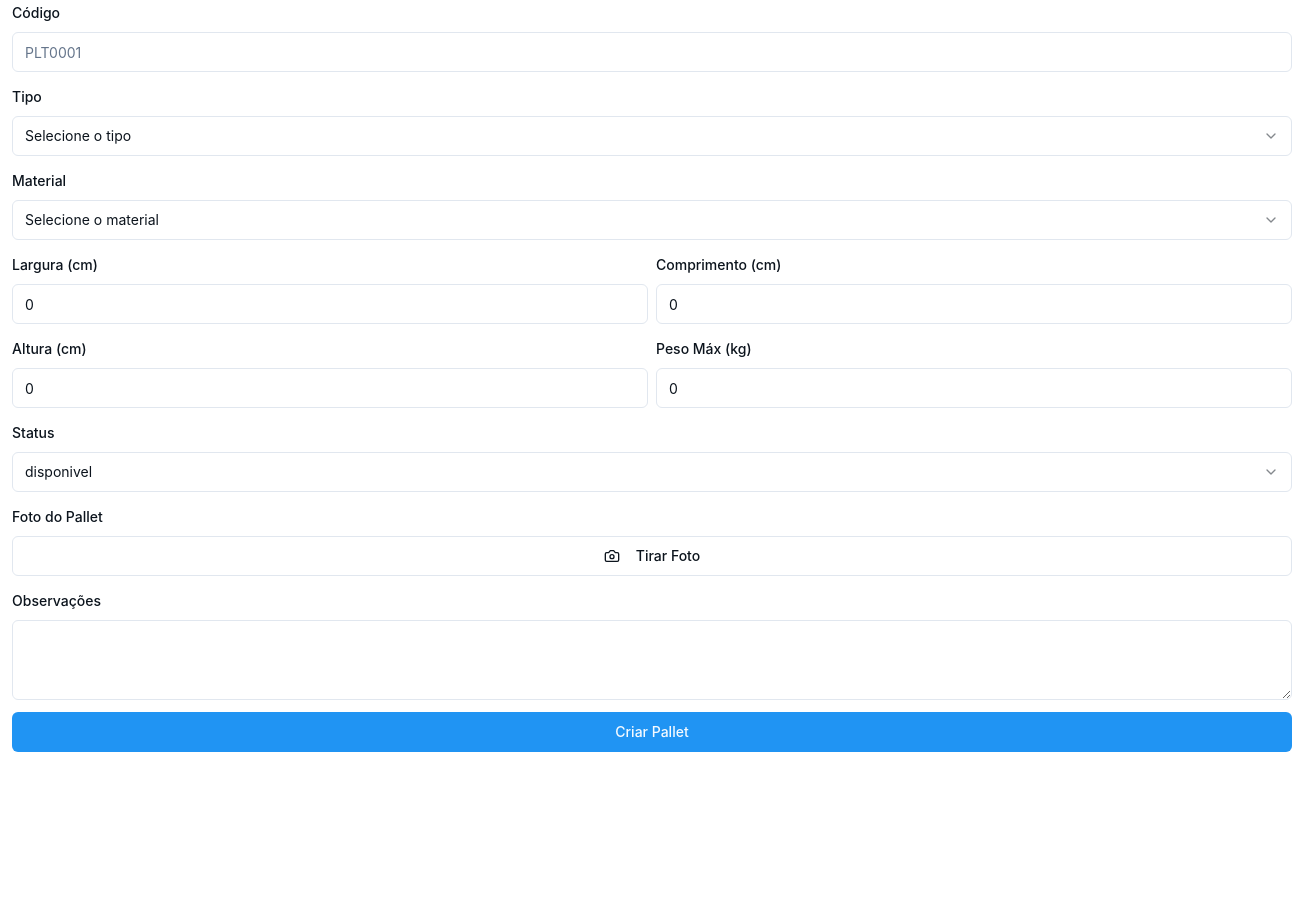
Test case: PalletForm Component Tests › Form Validation › should validate required fields
What coordinates should you click on to do the following:
click the button "Criar Pallet"
I would click on:
 (652, 732)
Its box is [12, 712, 1292, 752].
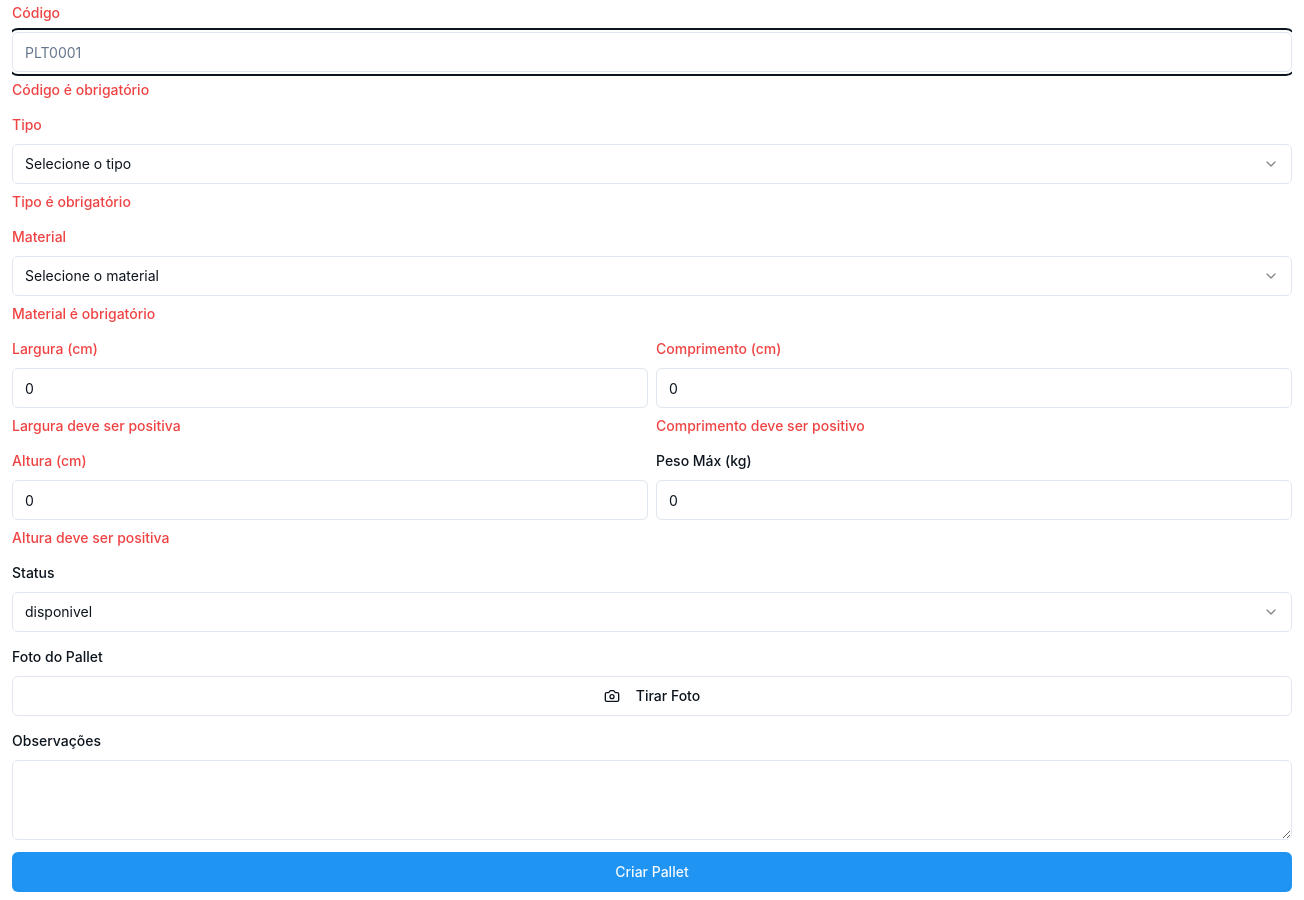
Result: the text "Código é obrigatório" is shown at [12, 81, 149, 98]
